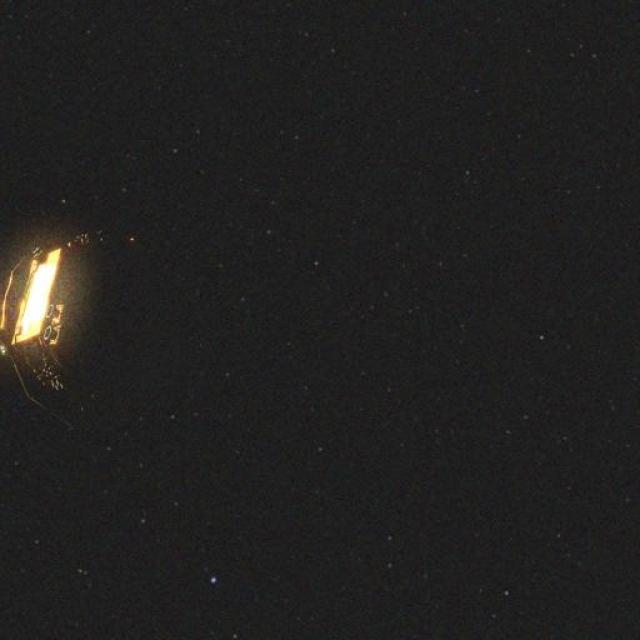lisa_pathfinder: (0, 197, 198, 452)
